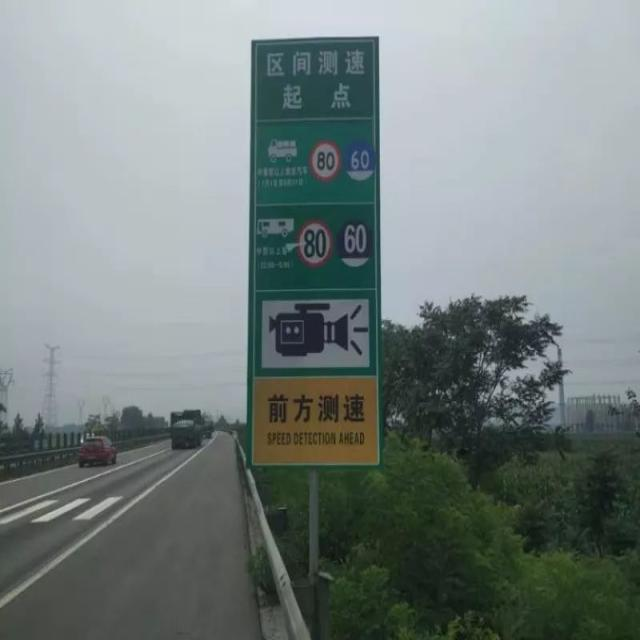speed limit 60: (336, 217, 373, 268), (343, 139, 376, 182)
speed limit 80: (296, 222, 334, 268), (308, 139, 343, 181)
